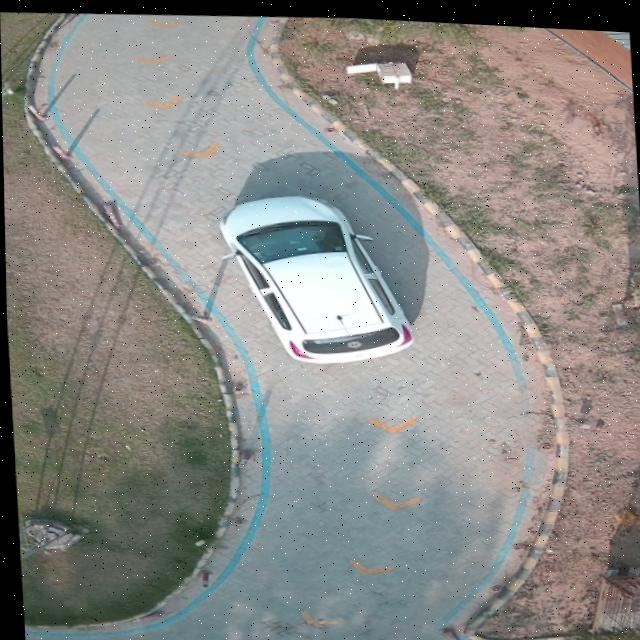car: (218, 192, 412, 359)
